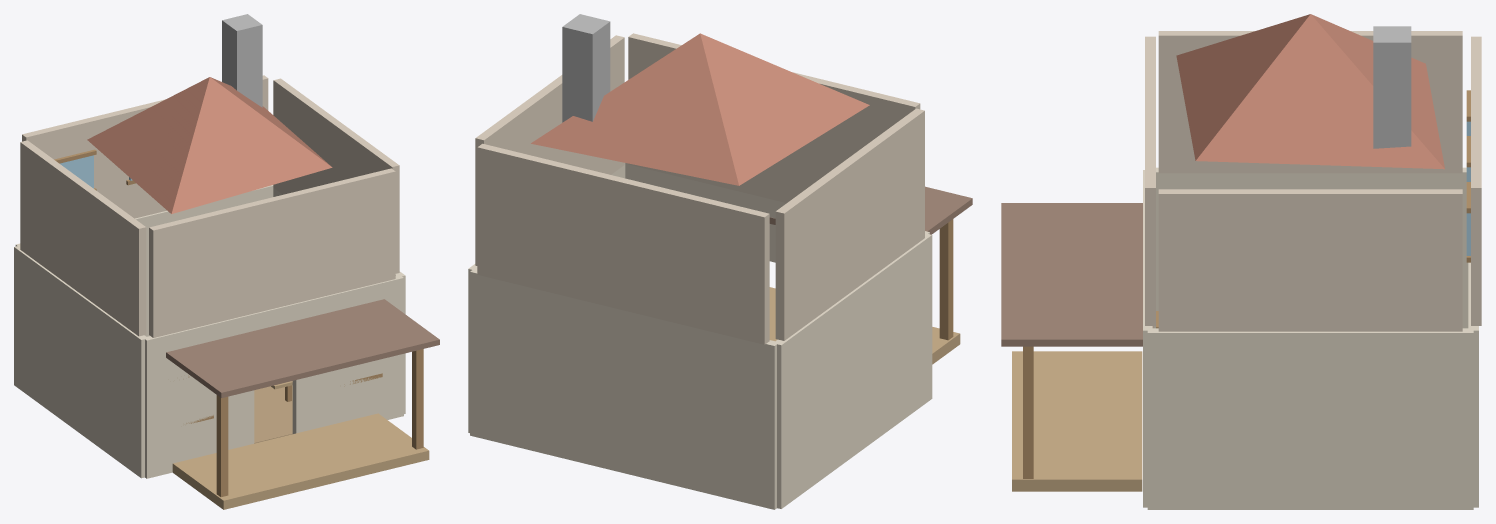
File: house.fbx
3 renders of one model, left to right at view 1: azimuth 30°, elevation 25°; view 2: azimuth 150°, elevation 25°; view 3: azimuth 270°, elevation 25°, orthographic. The views are drawn at different scales.
Parts seen in each view (by area): view 1: Front2, Left, Roof, Left2, PorchRoof, Porch, Front_L, Front_R, Right2, Back2, Chimney, Int_Floor (+5 smaller); view 2: Back, Back2, Roof, Left, Left2, Front2, Right2, Chimney, Front_R, PorchPost, PorchRoof, Porch (+1 smaller); view 3: Right, Right2, Roof, PorchRoof, Porch, Left2, Left, Chimney, Back2, Front2, PorchPost.001, Back (+1 smaller).
Boxes of the visible parts, bbox=[...] form: Front2: bbox=[149, 168, 395, 337]; Left: bbox=[14, 246, 146, 478]; Roof: bbox=[87, 77, 332, 214]; Left2: bbox=[20, 140, 146, 336]; PorchRoof: bbox=[166, 299, 439, 398]; Porch: bbox=[172, 413, 429, 509]; Front_L: bbox=[143, 313, 254, 478]; Front_R: bbox=[292, 275, 403, 433]; Right2: bbox=[273, 78, 399, 273]; Back2: bbox=[22, 75, 268, 218]; Chimney: bbox=[222, 14, 262, 107]; Int_Floor: bbox=[254, 385, 292, 443]; Back: bbox=[470, 268, 776, 509]; Back2: bbox=[477, 143, 769, 344]; Roof: bbox=[531, 33, 869, 185]; Left: bbox=[773, 233, 932, 508]; Left2: bbox=[775, 108, 924, 340]; Front2: bbox=[628, 33, 920, 202]; Right2: bbox=[475, 35, 624, 265]; Chimney: bbox=[562, 14, 610, 122]; Front_R: bbox=[625, 163, 748, 208]; PorchPost: bbox=[939, 219, 953, 340]; PorchRoof: bbox=[769, 186, 972, 234]; Porch: bbox=[769, 287, 960, 364]; Right: bbox=[1147, 328, 1473, 509]; Right2: bbox=[1158, 189, 1462, 331]; Roof: bbox=[1176, 14, 1444, 169]; PorchRoof: bbox=[1001, 203, 1153, 346]; Porch: bbox=[1012, 351, 1142, 491]; Left2: bbox=[1158, 31, 1462, 173]; Left: bbox=[1153, 167, 1468, 328]; Chimney: bbox=[1373, 26, 1411, 148]; Back2: bbox=[1471, 36, 1481, 325]; Front2: bbox=[1145, 36, 1155, 325]; PorchPost.001: bbox=[1023, 346, 1033, 478]; Back: bbox=[1468, 262, 1478, 507].
Size of the model in its own units: 7.2 by 8.8 by 8.85.
